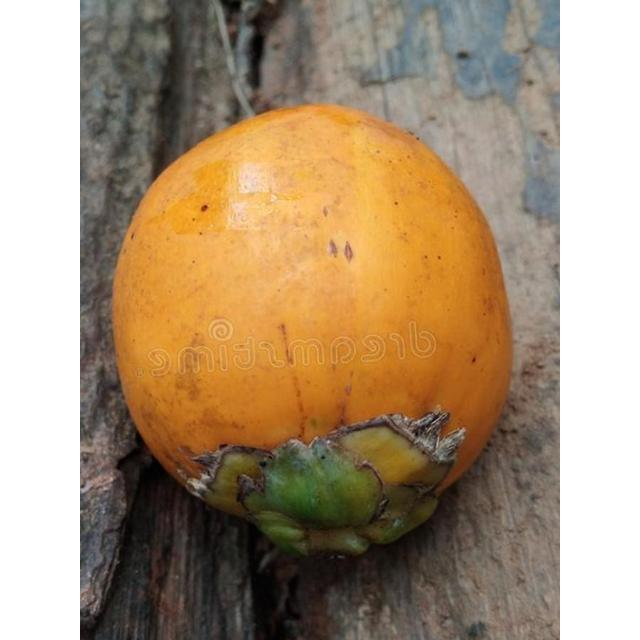good: (111, 103, 514, 560)
